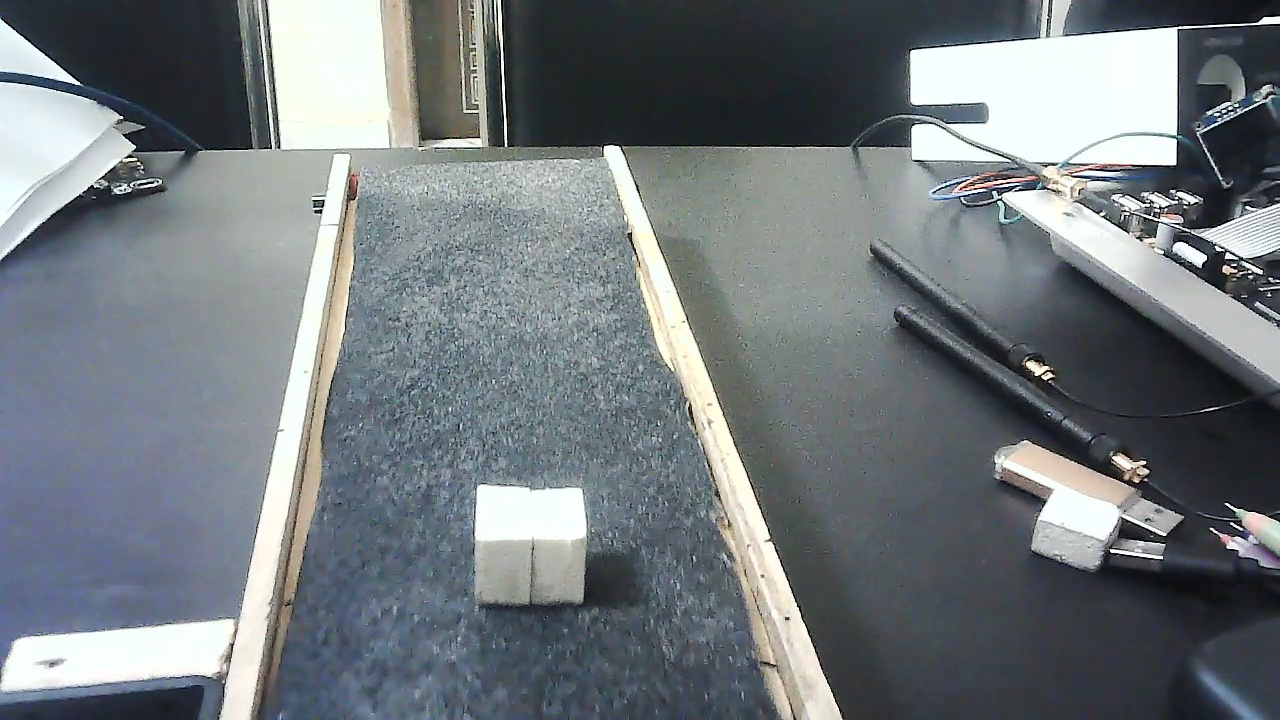Small: (468, 485, 589, 606)
